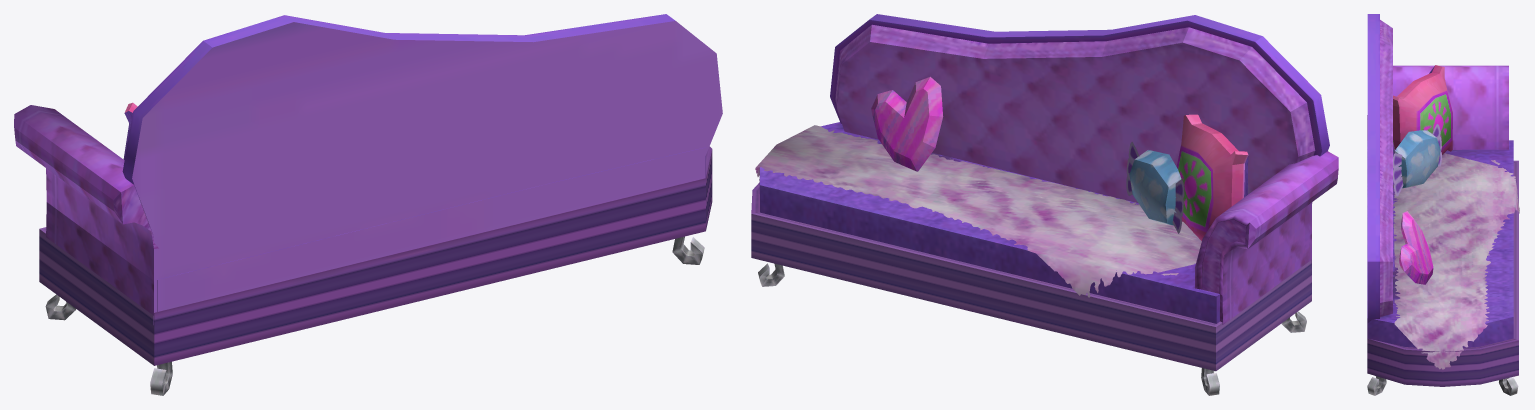
The model's file is furni_0200034_01.FBX.
The picture shows the model from 3 angles, left to right: view 1: azimuth 30°, elevation 25°; view 2: azimuth 150°, elevation 25°; view 3: azimuth 270°, elevation 25°; orthographic projection. The views are drawn at different scales.
Visible parts, largest first — view 1: furni_0200034_01; view 2: furni_0200034_01; view 3: furni_0200034_01.
Part boxes in pixels (x1=…): furni_0200034_01: x1=14, y1=14, x2=722, y2=395; furni_0200034_01: x1=751, y1=14, x2=1338, y2=395; furni_0200034_01: x1=1367, y1=14, x2=1519, y2=395.
Bounding box in the file's own units: 239 × 123 × 75.55.
Materials: 1 (1 with a texture image).
